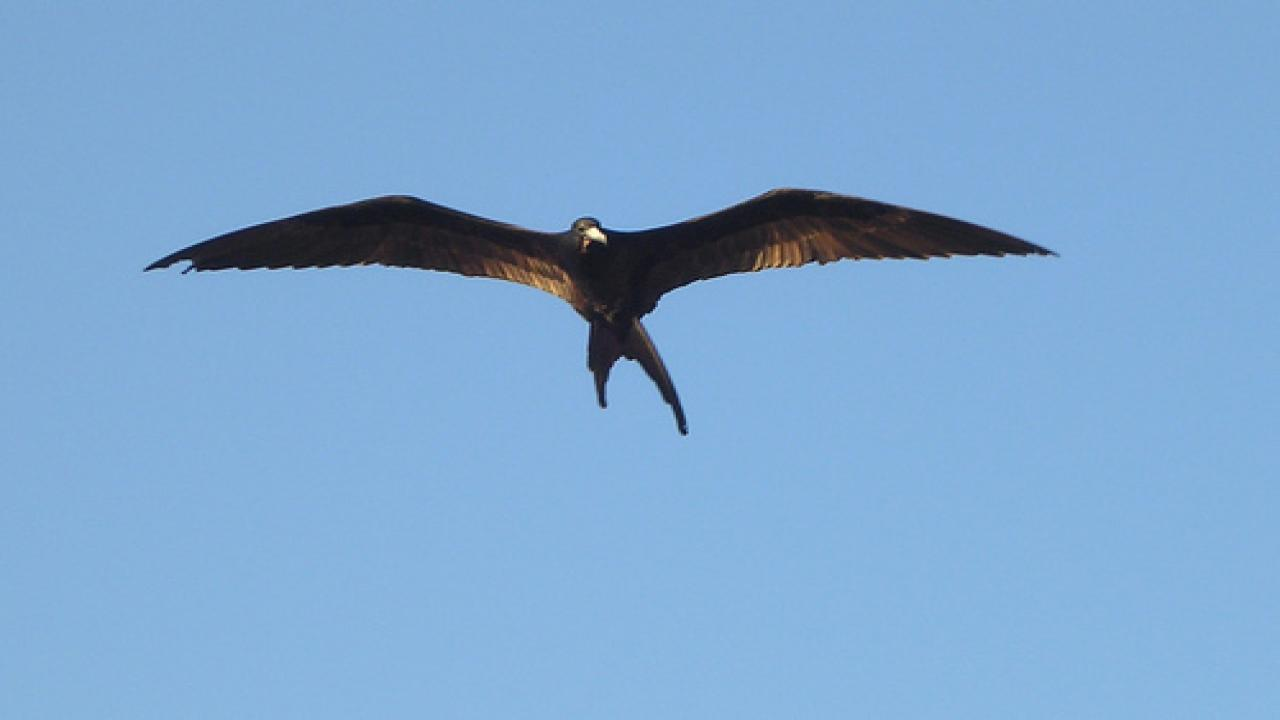Bird: (138, 178, 1064, 443)
